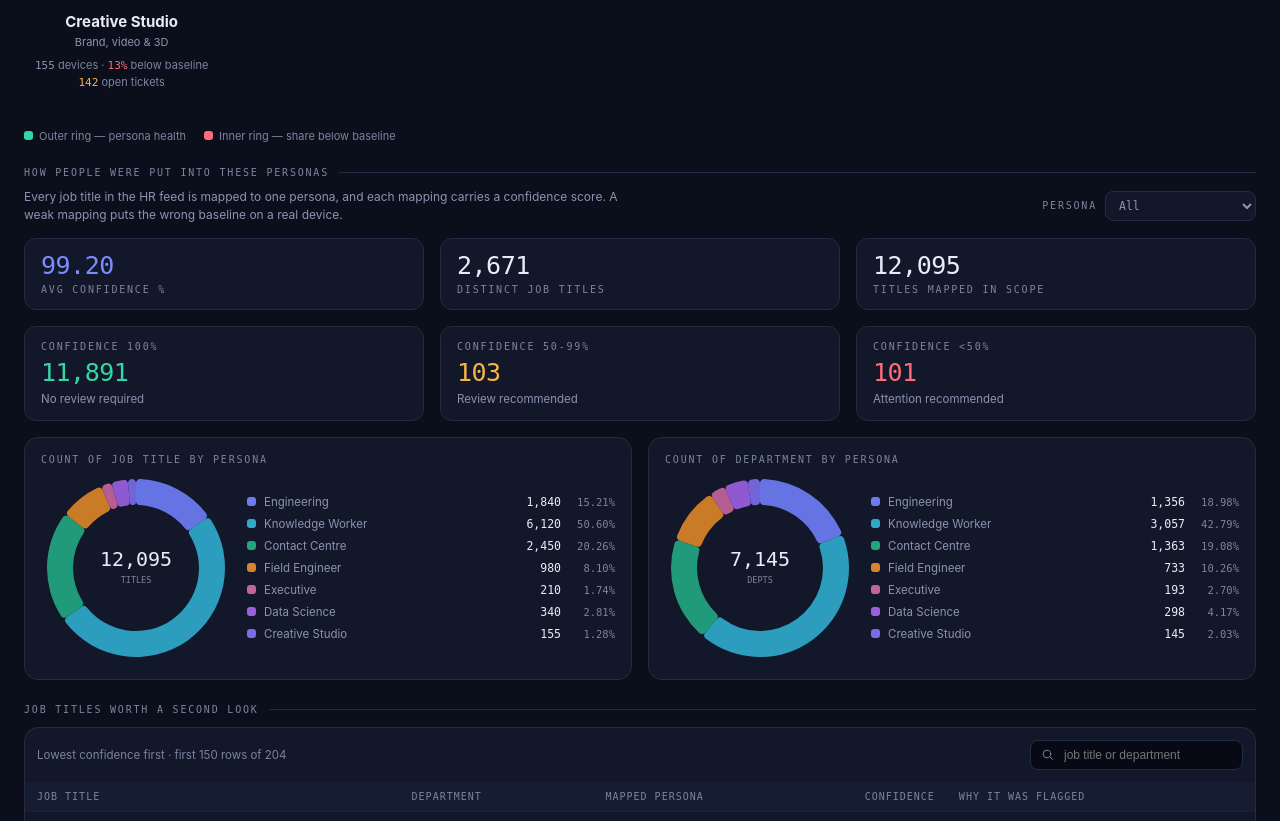
Test case: review queue › filters to a band, shows the clear chip, and clears it
This screenshot has width=1280, height=821.
(page scrolled)
Check: the element named "Confidence bands" is shown, box top-left (24, 326), bottom-right (1256, 421)
Click the button "Confidence <50% 101 Attention recommended": x=932, y=346 top-left (856, 326), bottom-right (1256, 421)
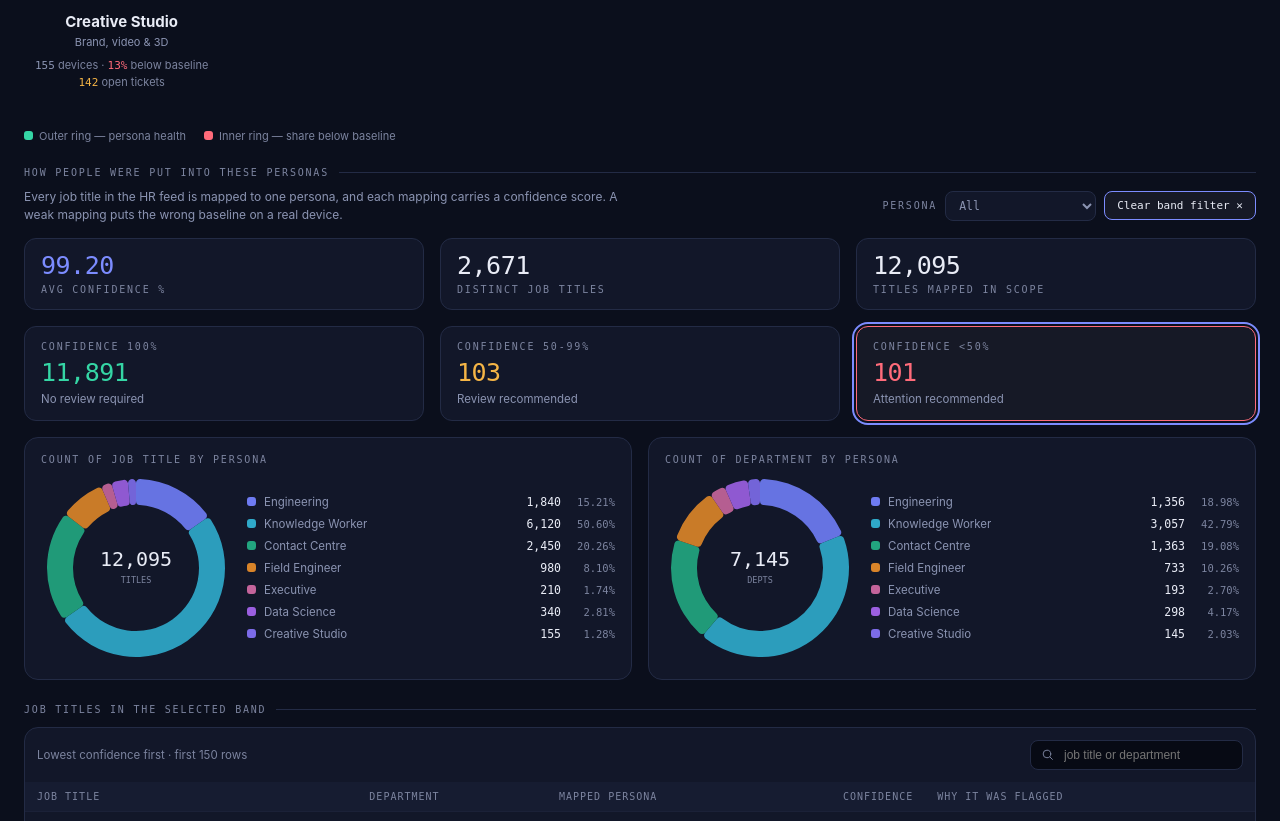
Check: the text "Job titles in the selected band" is shown, box top-left (24, 704), bottom-right (266, 715)
Click the button "Clear band filter ✕": x=1180, y=206 top-left (1104, 191), bottom-right (1256, 220)
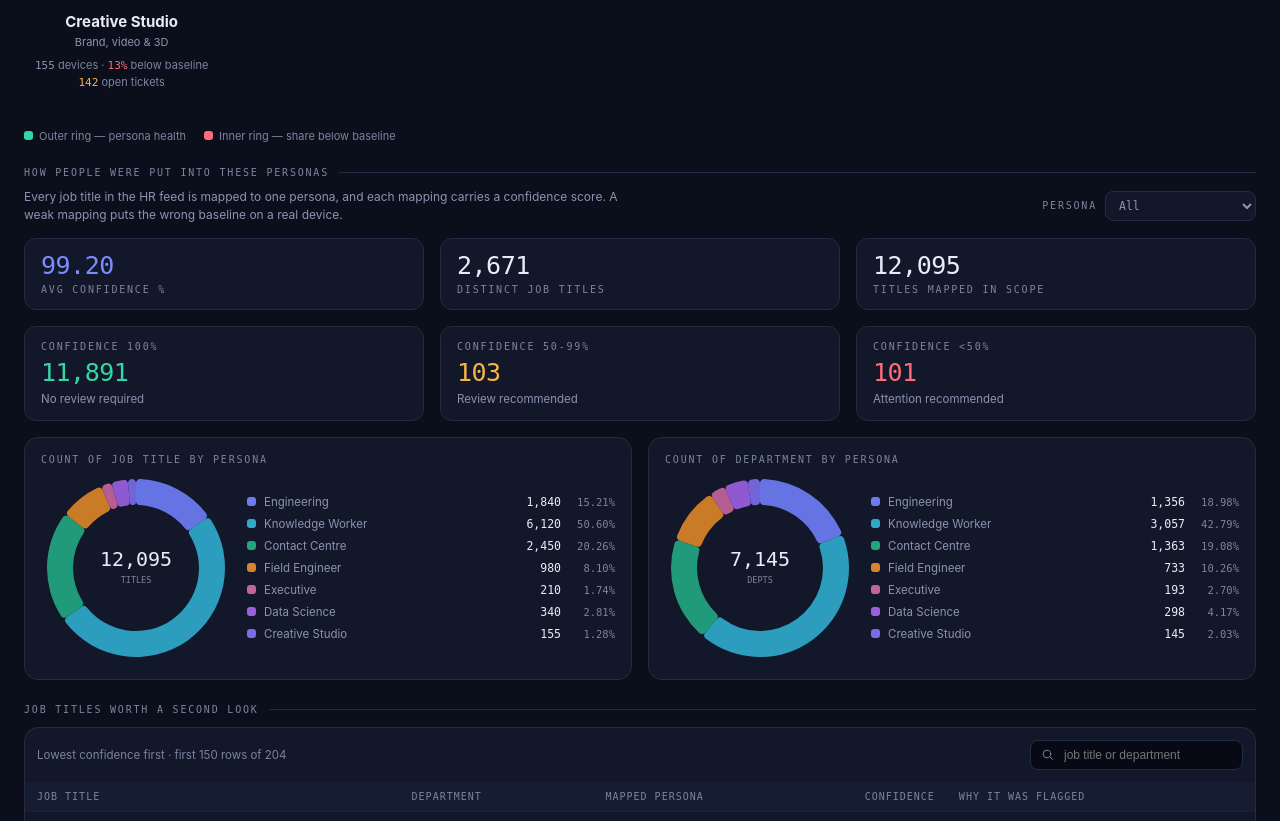
Check: the button "Clear band filter ✕" is gone
